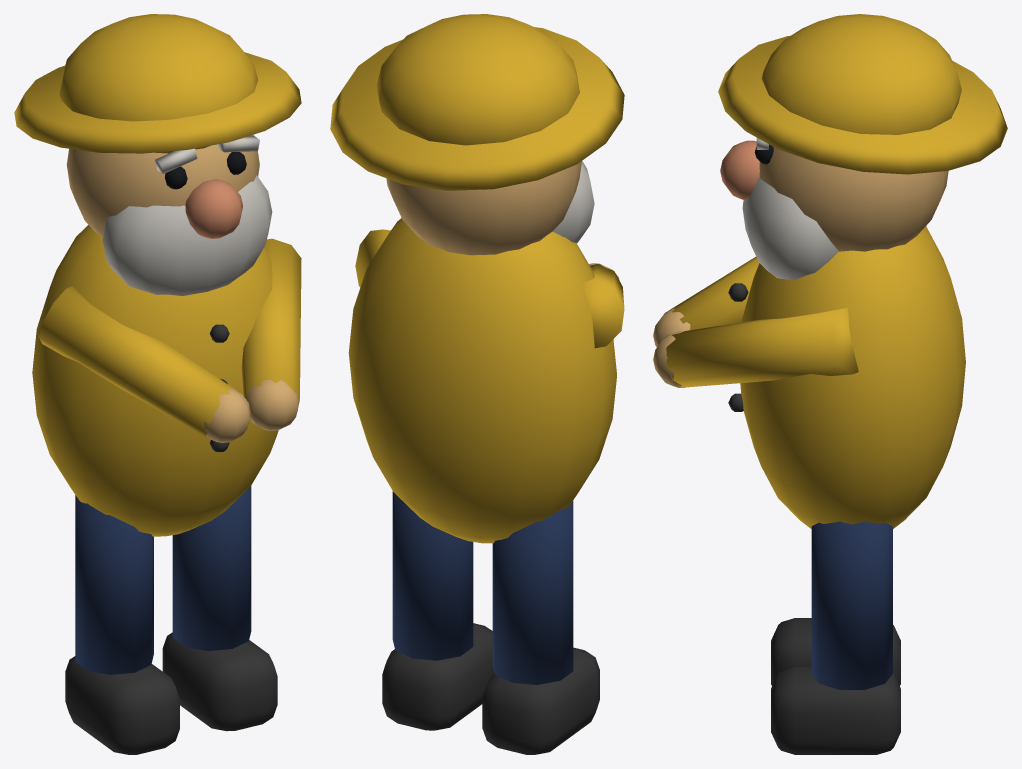
The model's file is fisher.glb.
3 renders of one model, left to right at view 1: azimuth 30°, elevation 25°; view 2: azimuth 150°, elevation 25°; view 3: azimuth 270°, elevation 25°, orthographic. The views are drawn at different scales.
Parts seen in each view (by area): view 1: Fisher, Arms; view 2: Fisher, Arms; view 3: Fisher, Arms.
Part boxes in pixels (<box>): Fisher: <box>14,14,301,754</box>; Arms: <box>39,238,301,442</box>; Fisher: <box>330,14,624,754</box>; Arms: <box>355,229,624,348</box>; Fisher: <box>718,14,1007,754</box>; Arms: <box>653,256,858,387</box>.
Bounding box in the file's own units: 0.7459 × 1.89 × 0.873.
